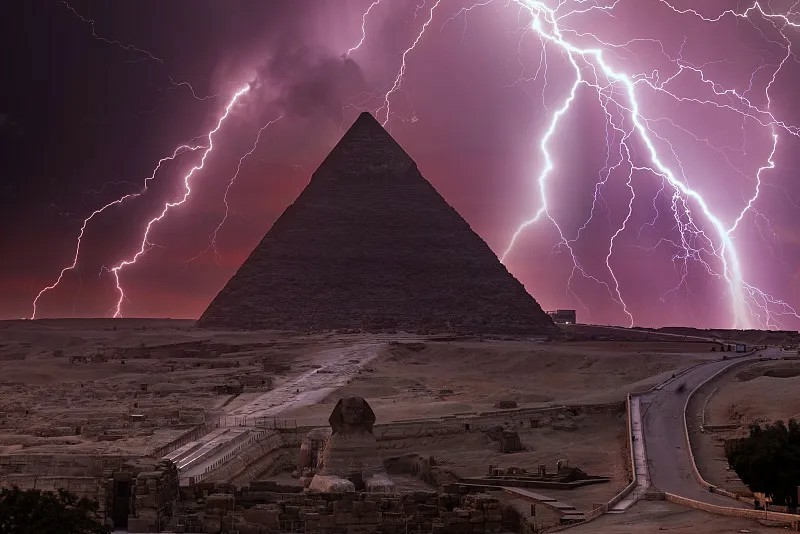Pyramid: (200, 111, 553, 330)
